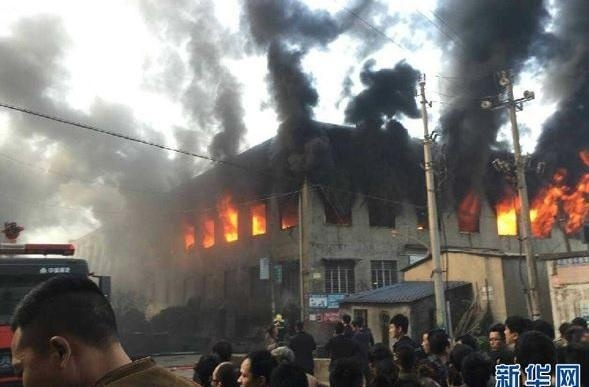fire: (495, 153, 589, 235), (187, 195, 266, 243)
